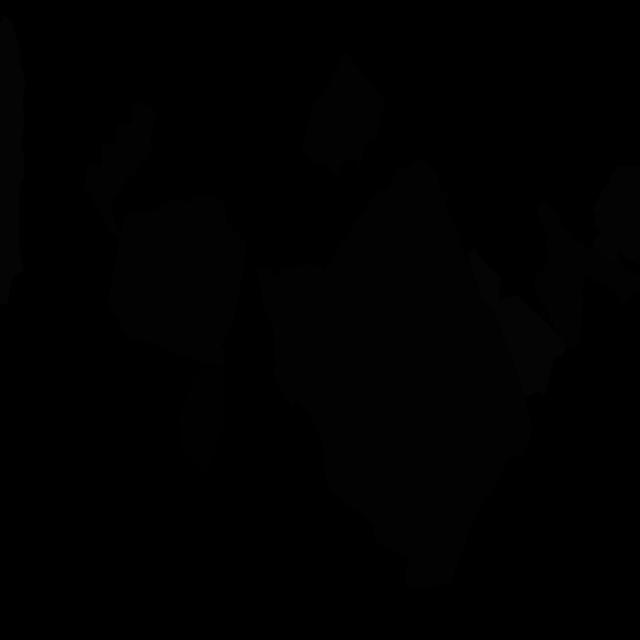cardboard: (257, 159, 532, 589), (108, 195, 246, 366), (533, 201, 640, 350), (301, 51, 387, 182), (84, 101, 156, 242)
metal: (592, 166, 640, 265)
rigid_plastic: (179, 363, 227, 475)
soft_plastic: (467, 247, 567, 396), (0, 16, 26, 304)
